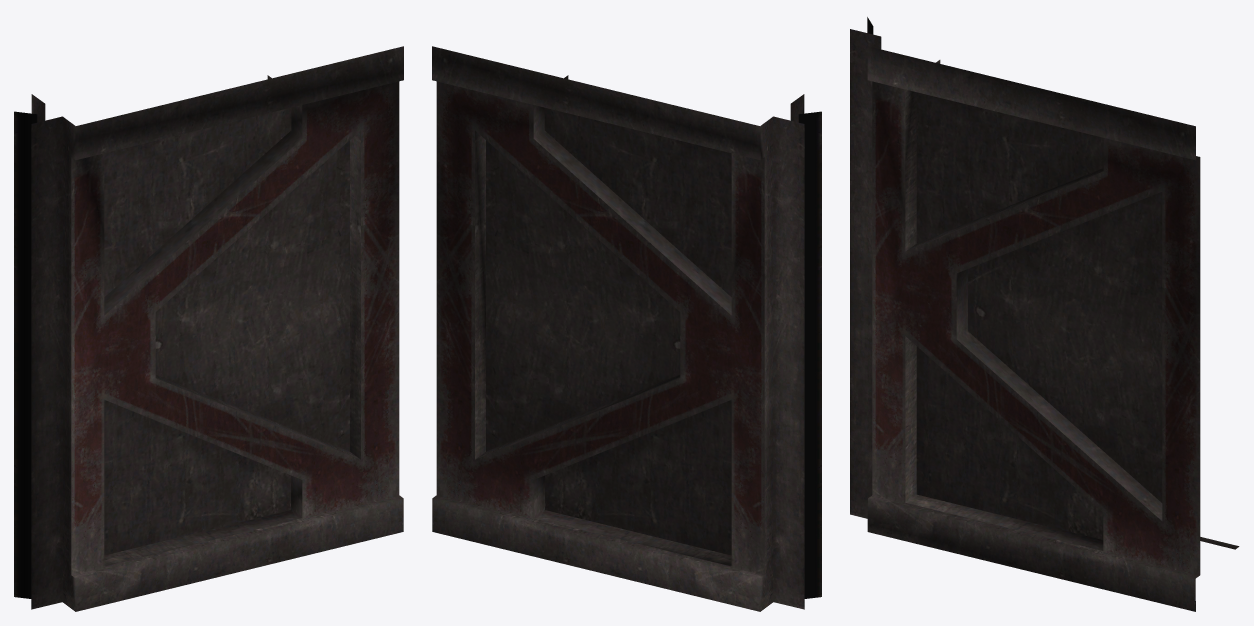
The model's file is ContDoorLeft.glb.
3 renders of one model, left to right at view 1: azimuth 30°, elevation 25°; view 2: azimuth 150°, elevation 25°; view 3: azimuth 330°, elevation 25°, orthographic.
Parts seen in each view (by area): view 1: Duplicate01; view 2: Duplicate01; view 3: Duplicate01.
Part boxes in pixels (<box>): Duplicate01: <box>14,46,403,611</box>; Duplicate01: <box>432,46,821,611</box>; Duplicate01: <box>850,17,1239,611</box>.
Size of the model in its own units: 4.44 by 5.74 by 0.9427.
1 material, 1 textured.
